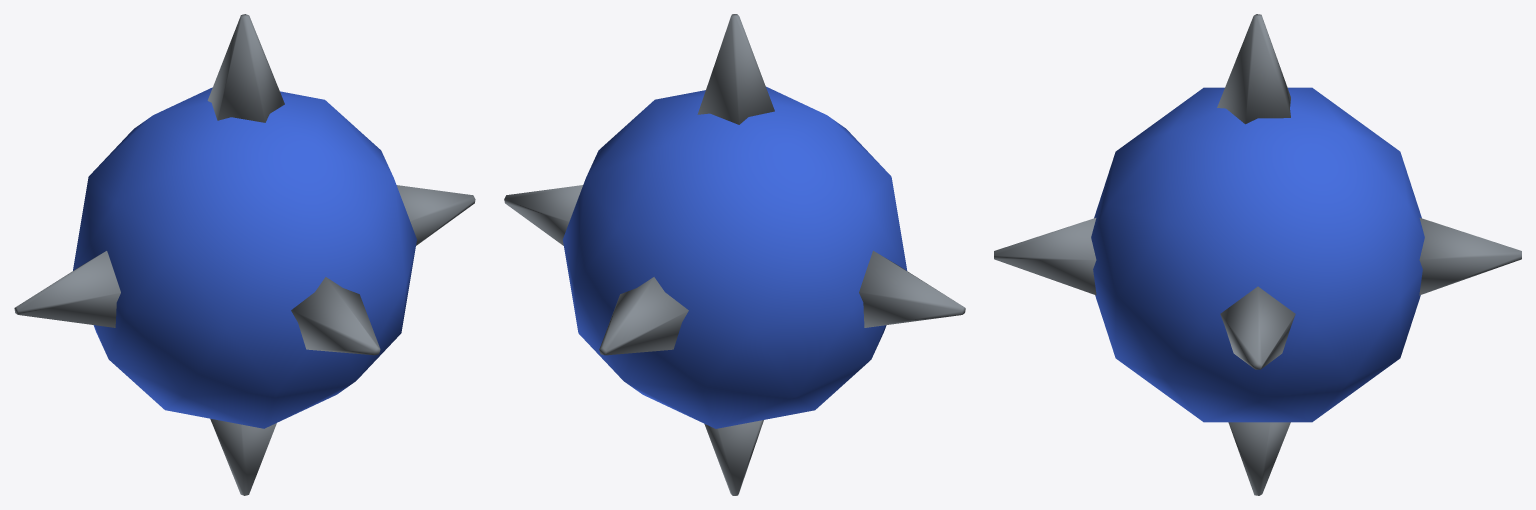
File: blue_moon_ball.glb
3 renders of one model, left to right at view 1: azimuth 30°, elevation 25°; view 2: azimuth 150°, elevation 25°; view 3: azimuth 270°, elevation 25°, orthographic.
Visible parts, largest first — view 1: blue_moon_ball_v0; view 2: blue_moon_ball_v0; view 3: blue_moon_ball_v0.
Part boxes in pixels (bbox=[...]): blue_moon_ball_v0: bbox=[14, 14, 475, 495]; blue_moon_ball_v0: bbox=[504, 14, 965, 495]; blue_moon_ball_v0: bbox=[994, 14, 1521, 495].
Bounding box in the file's own units: 0.24 × 0.24 × 0.24.
